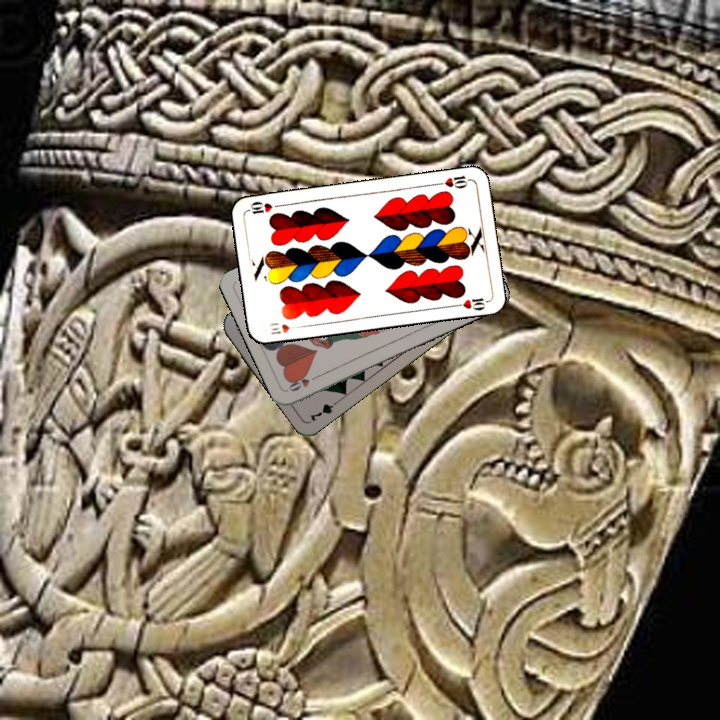G7: (305, 395, 343, 424)
H10: (433, 172, 473, 191), (264, 318, 302, 337)
HO: (284, 371, 322, 394)
